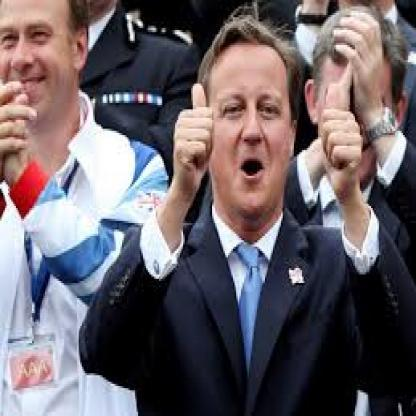thumb_up: (317, 83, 365, 183), (172, 81, 216, 188)
